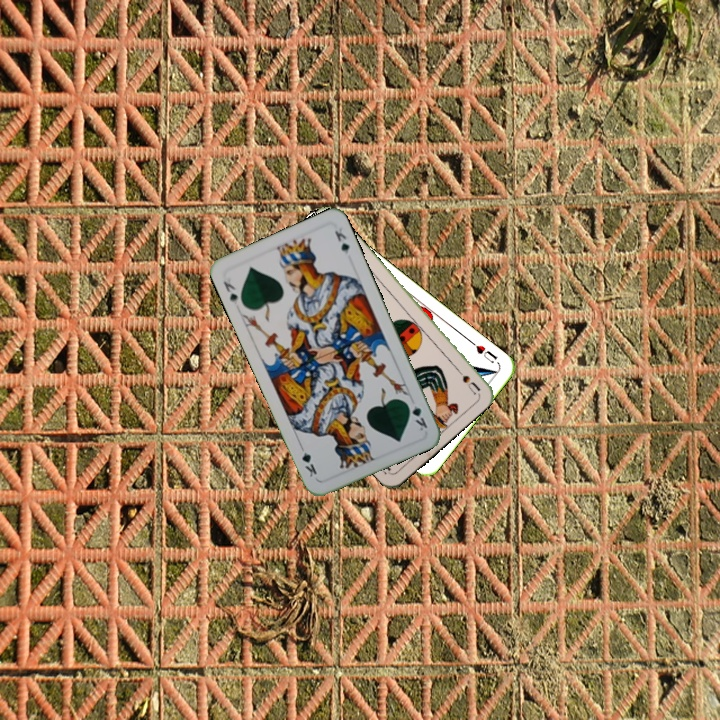GK: (402, 398, 430, 433), (219, 277, 240, 307)
HU: (467, 337, 500, 366)
SU: (450, 361, 482, 397)
